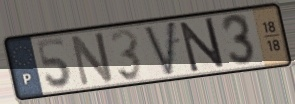3: (109, 26, 145, 83), (222, 13, 256, 69)
5: (34, 34, 75, 91)
N: (177, 16, 227, 75), (69, 30, 116, 89)
V: (142, 18, 178, 79)
